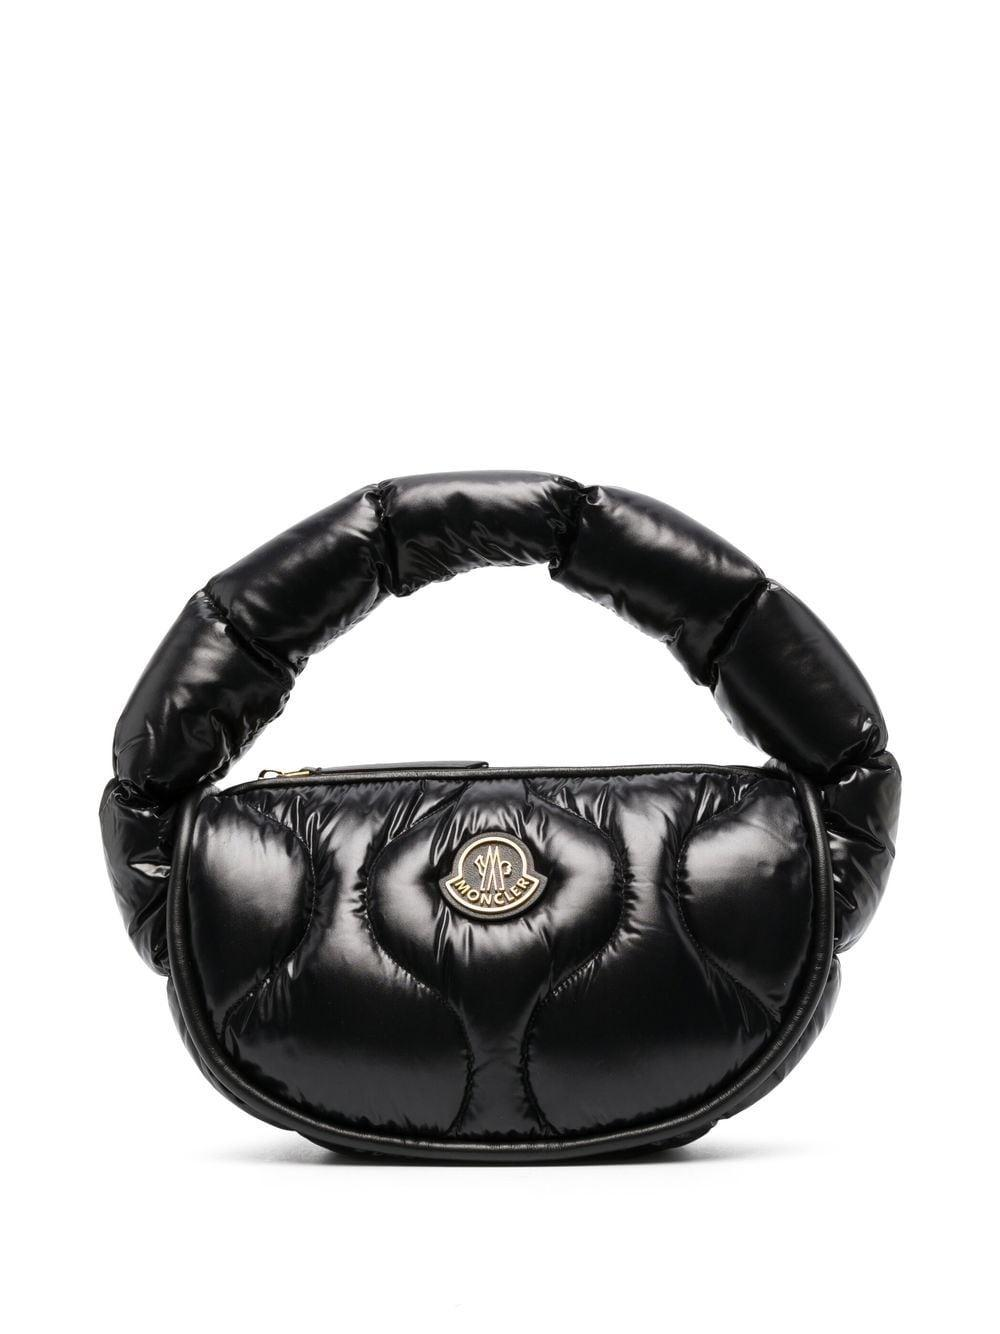MONCLER: (437, 830, 548, 923)
